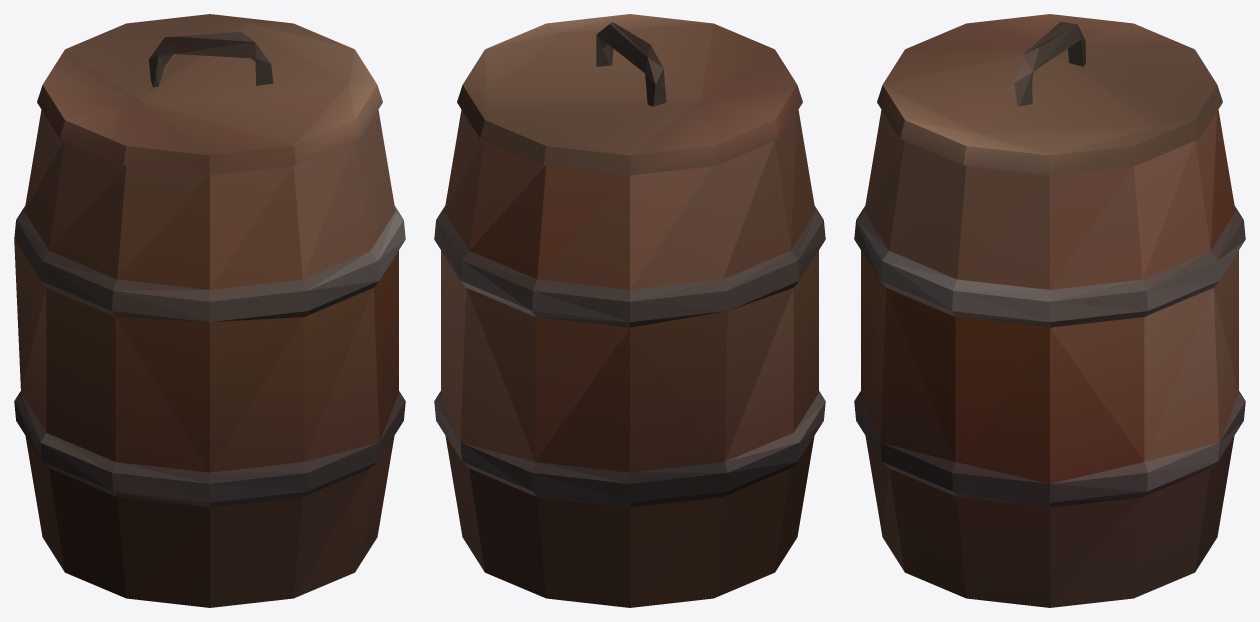
The model's file is Prop_BarrelCappedC.fbx.
The picture shows the model from 3 angles, left to right: view 1: azimuth 30°, elevation 25°; view 2: azimuth 150°, elevation 25°; view 3: azimuth 270°, elevation 25°; orthographic projection.
Visible parts, largest first — view 1: Prop_BarrelCappedC; view 2: Prop_BarrelCappedC; view 3: Prop_BarrelCappedC.
Part boxes in pixels (<box>): Prop_BarrelCappedC: <box>14,14,405,607</box>; Prop_BarrelCappedC: <box>434,14,825,607</box>; Prop_BarrelCappedC: <box>854,14,1245,607</box>.
Bounding box in the file's own units: 102 × 145 × 102.
